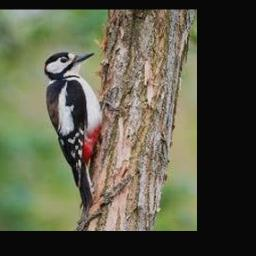Woodpecker: (44, 53, 103, 210)
